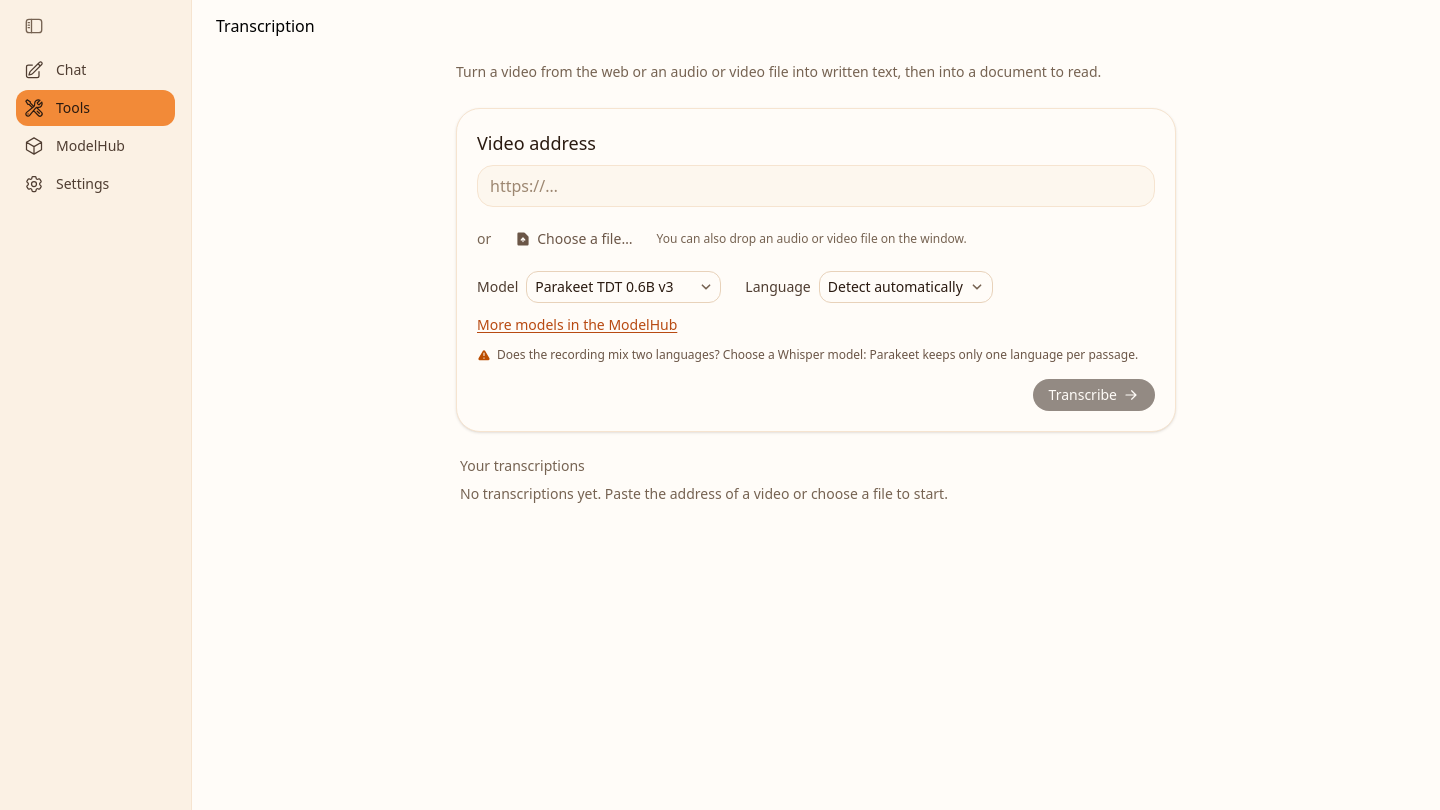
Transcription home › transcribes a chosen file with the chosen model and language, then opens its page
The width and height of the screenshot is (1440, 810).
Expected: the form with test id "transcription-form" is shown, [456,108,1176,432]
Expected: the button "Transcribe" is disabled, [1033,379,1155,411]
Step 1. Click the button "Choose a file…" → click(574, 239), box [503,223,644,255]
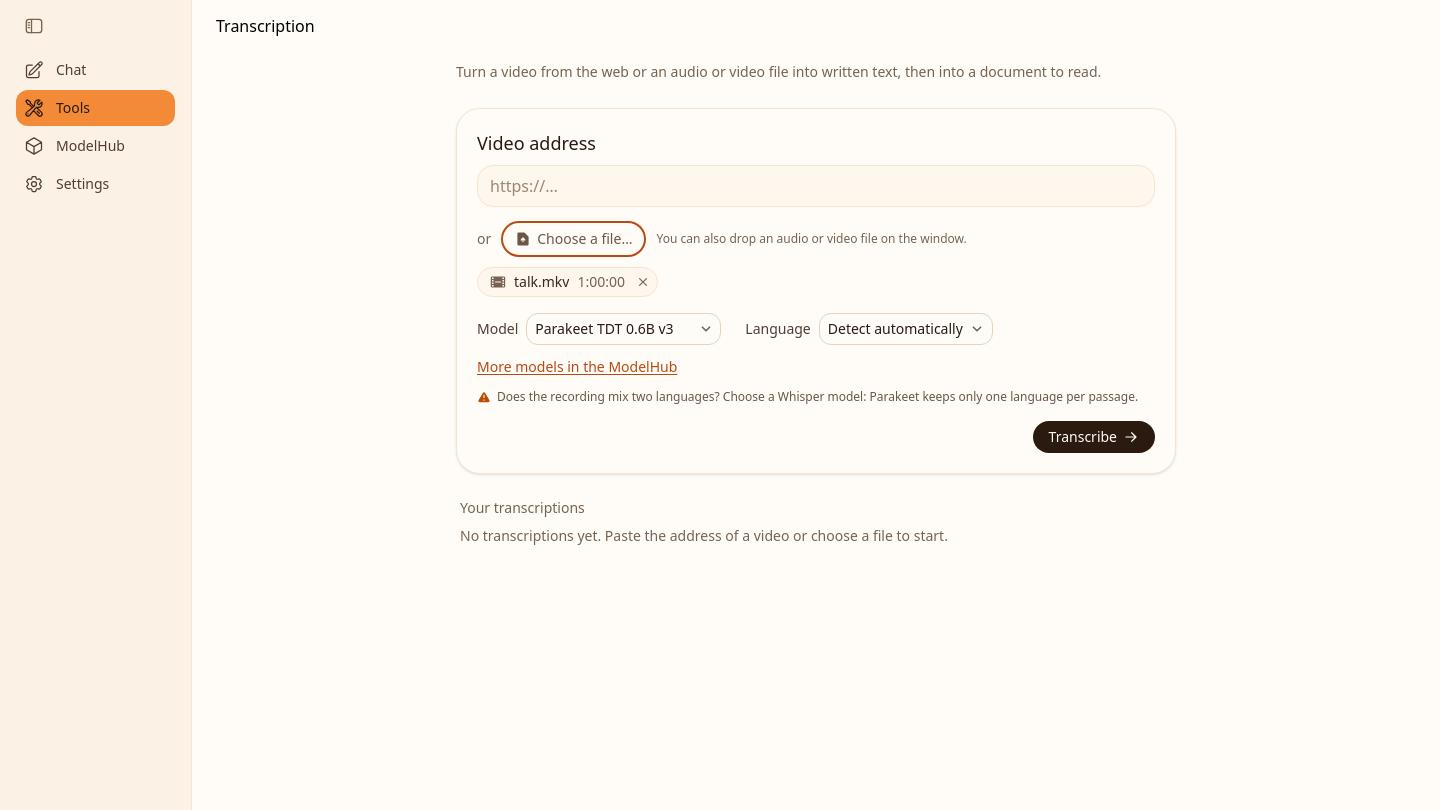
Expected: the dropdown labelled "Model" shows "Parakeet TDT 0.6B v3", [526,313,721,345]
Result: the element with test id "transcription-file" shows "talk.mkv" at [514,272,569,291]
Result: the element with test id "transcription-file" shows "1:00:00" at [577,272,625,291]
Step 2. Select "Japanese" in the dropdown labelled "Language" → (906, 329), box [819,313,993,345]
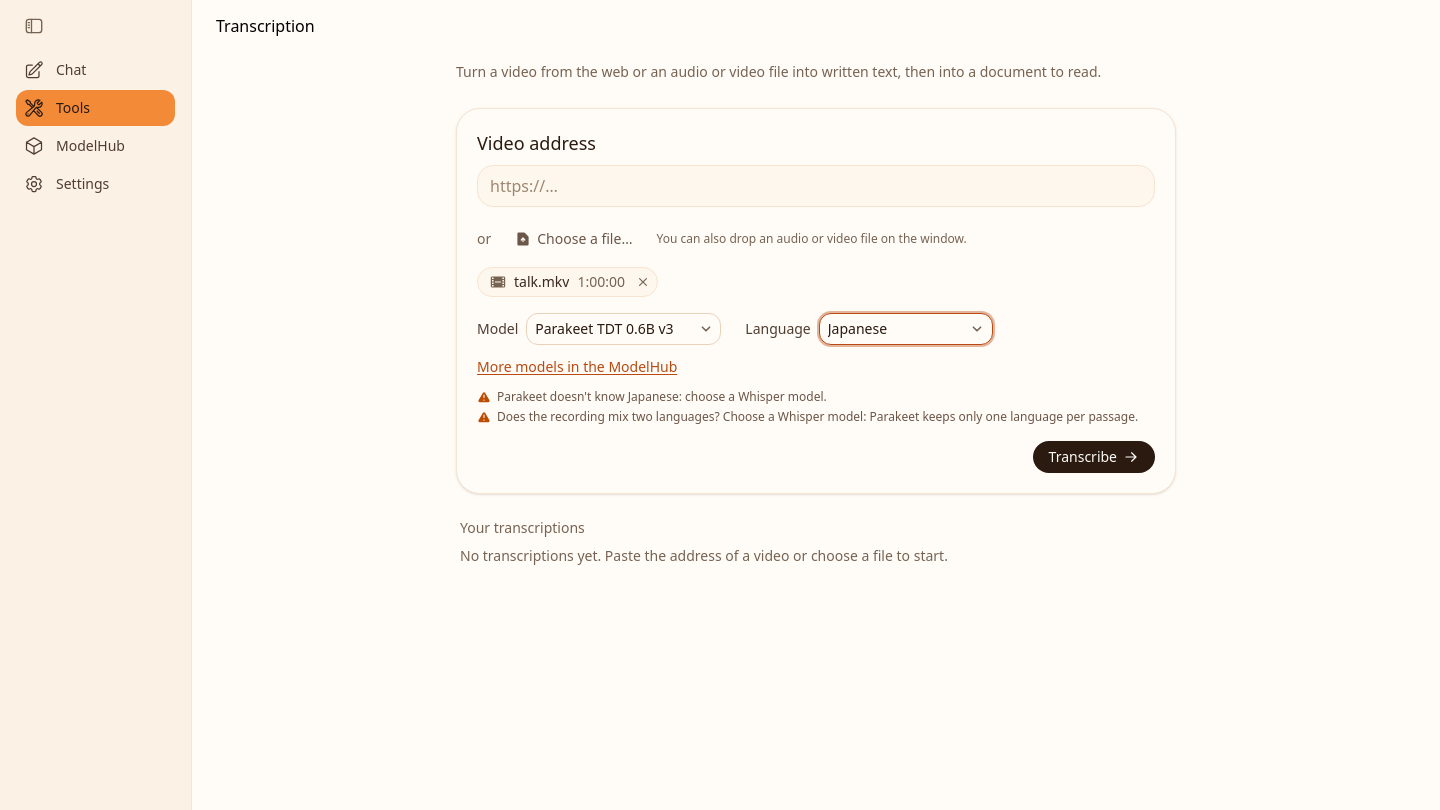
Result: the form with test id "transcription-form" shows "Parakeet doesn't know Japanese: choose a Whisper model." at [497,388,827,405]
// Langue qu'il connaît : il ne l'impose pas, Whisper est proposé.
Step 3. Select "French" in the dropdown labelled "Language" → (906, 329), box [819,313,993,345]
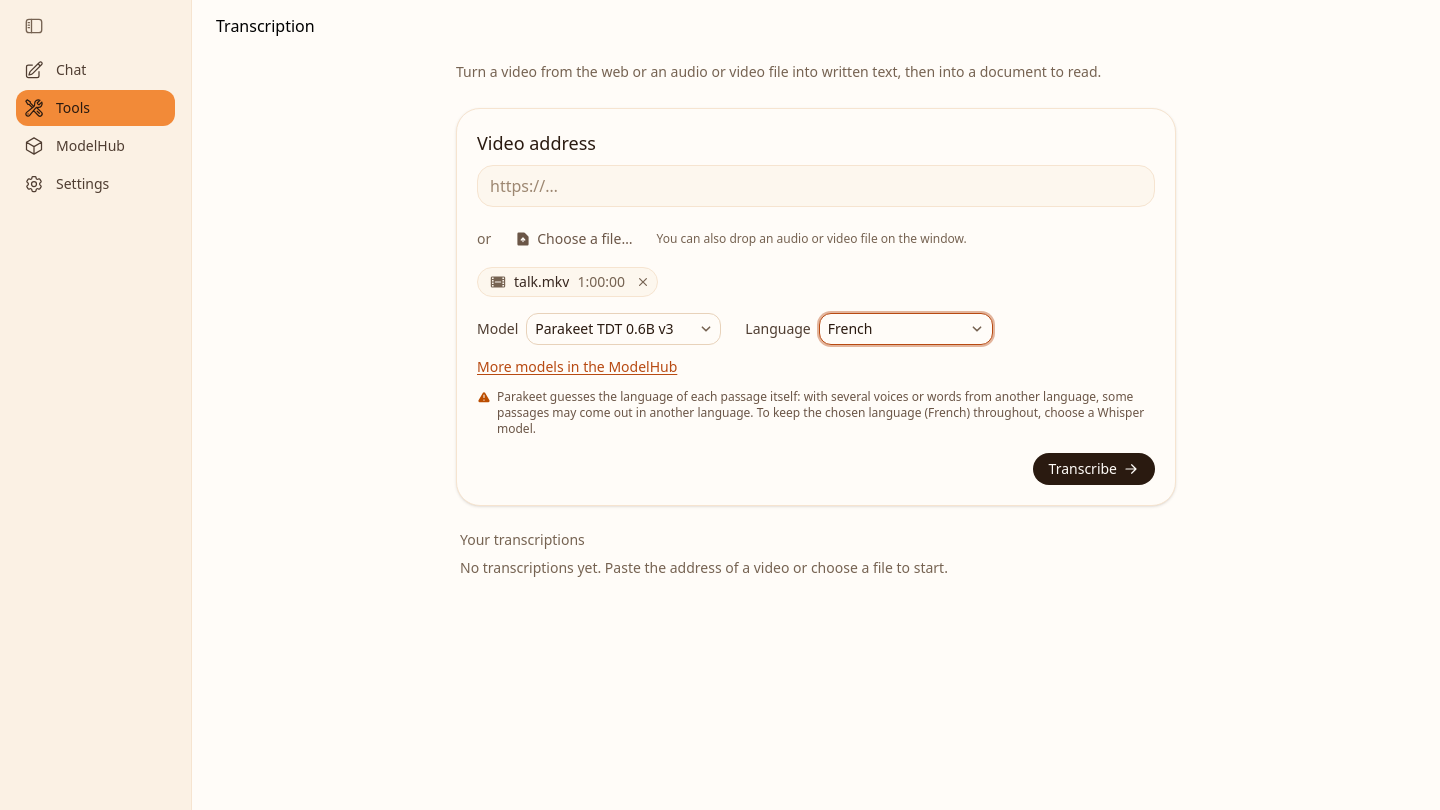
Result: the form with test id "transcription-form" shows "To keep the chosen language (French) throughout, choose a Whisper model." at [497,388,1144,437]
Step 4. Select "Japanese" in the dropdown labelled "Language" → (906, 329), box [819,313,993,345]
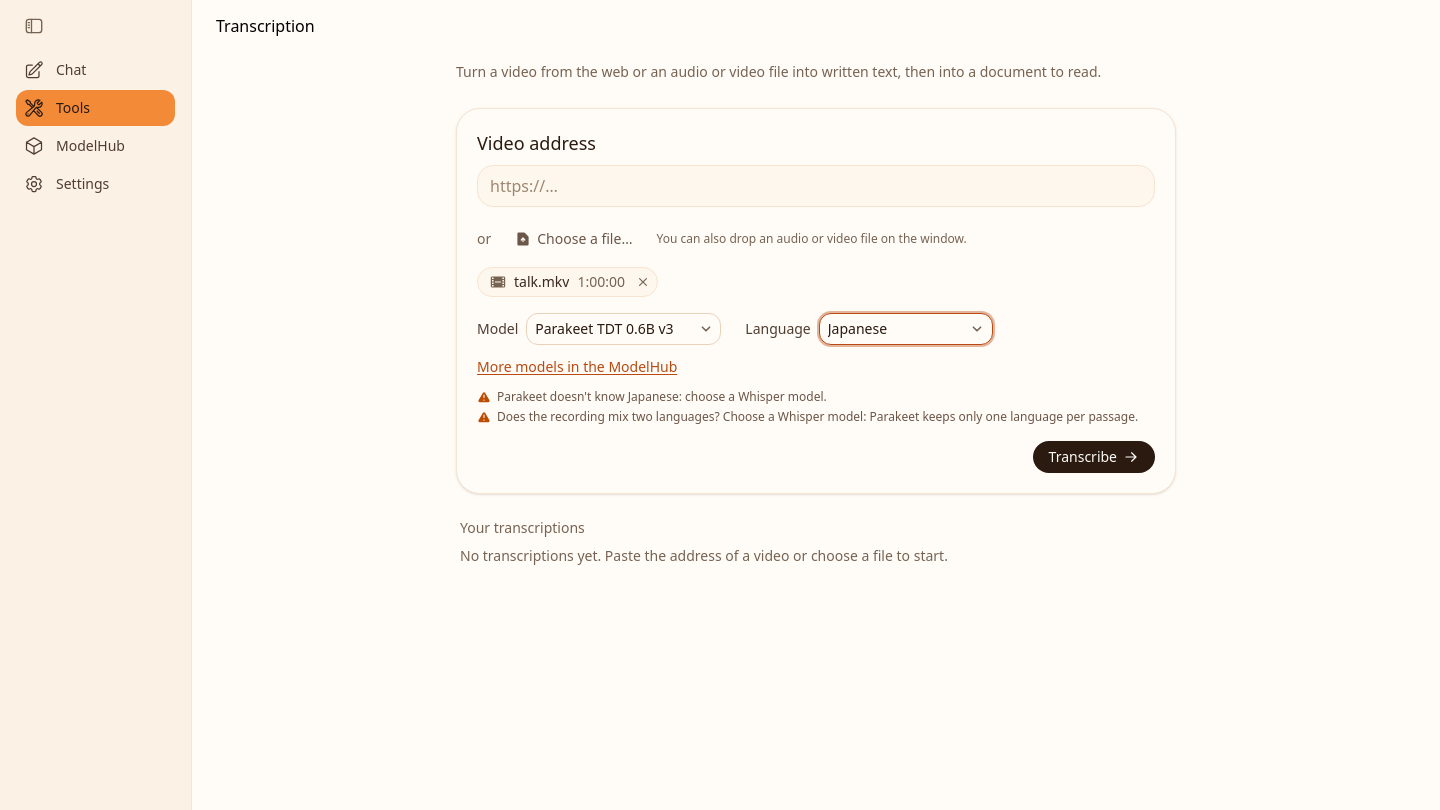
// Whisper sur une heure : lent, le temps est annoncé.
Step 5. Select "Whisper Large v3 Turbo" in the dropdown labelled "Model" → (624, 329), box [526,313,721,345]
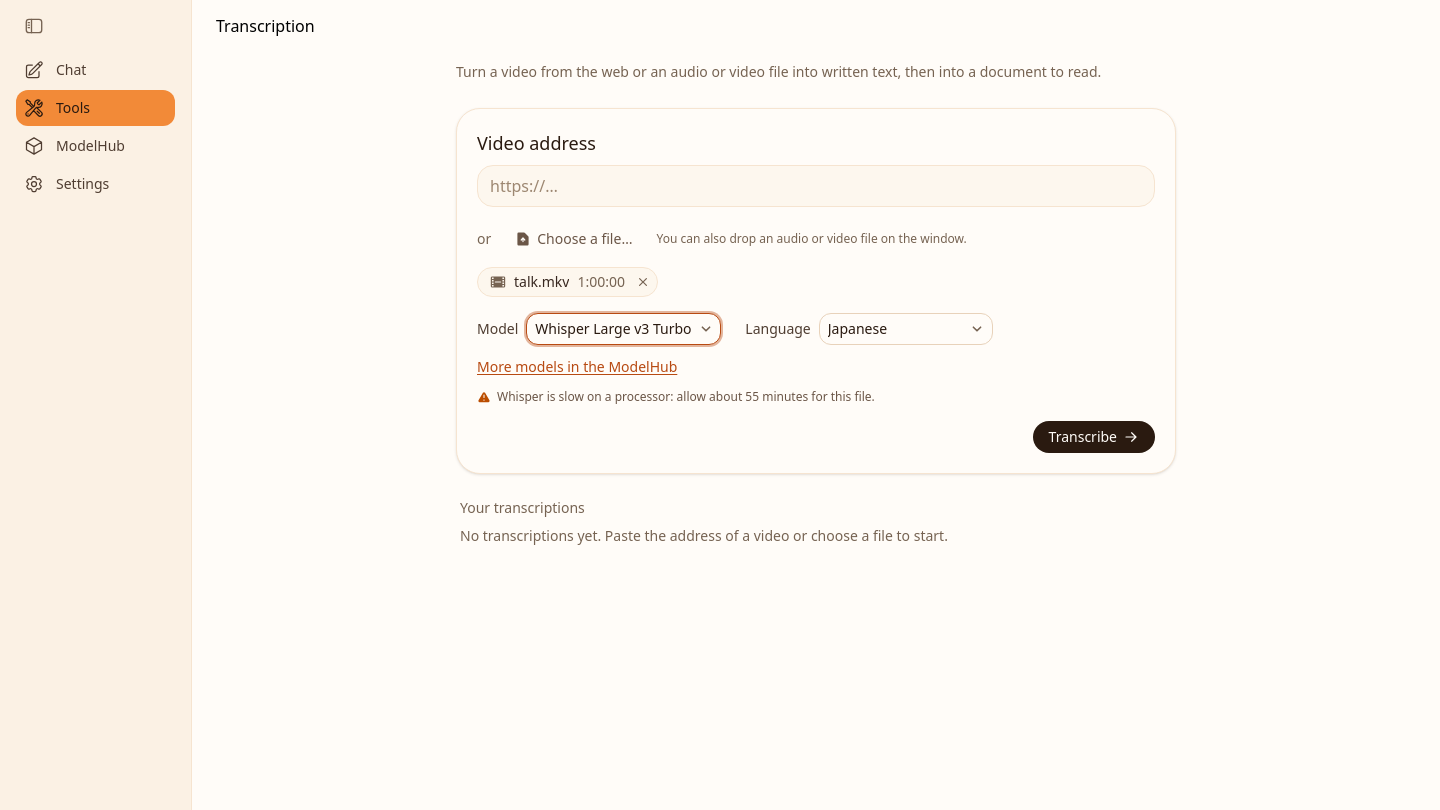
Result: the form with test id "transcription-form" shows "Whisper is slow on a processor: allow about 55 minutes for this file." at [497,388,875,405]
Step 6. Click the button "Transcribe" → click(1094, 437), box [1033,421,1155,453]
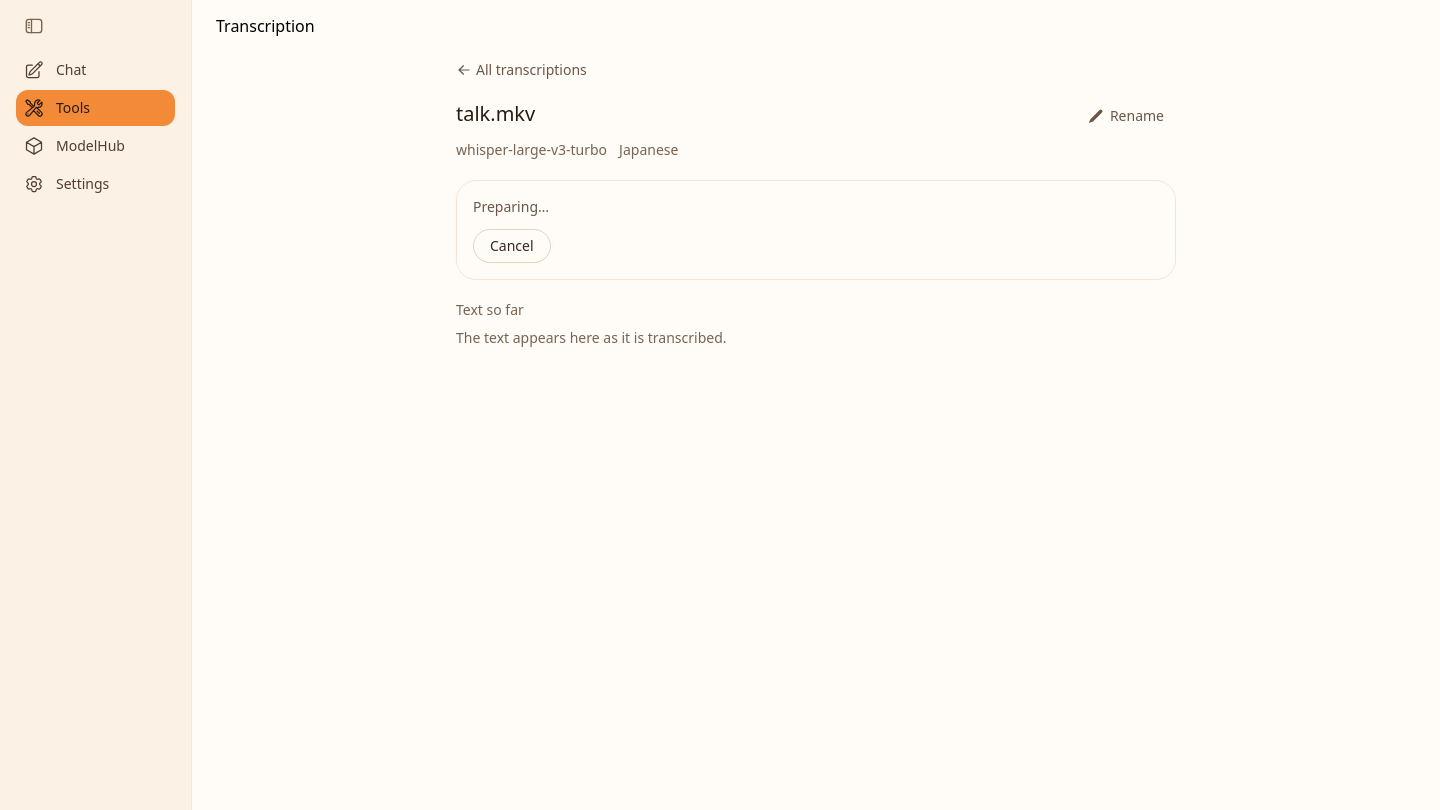
Result: the element with test id "transcription-view" is shown at [455,60,1176,347]
